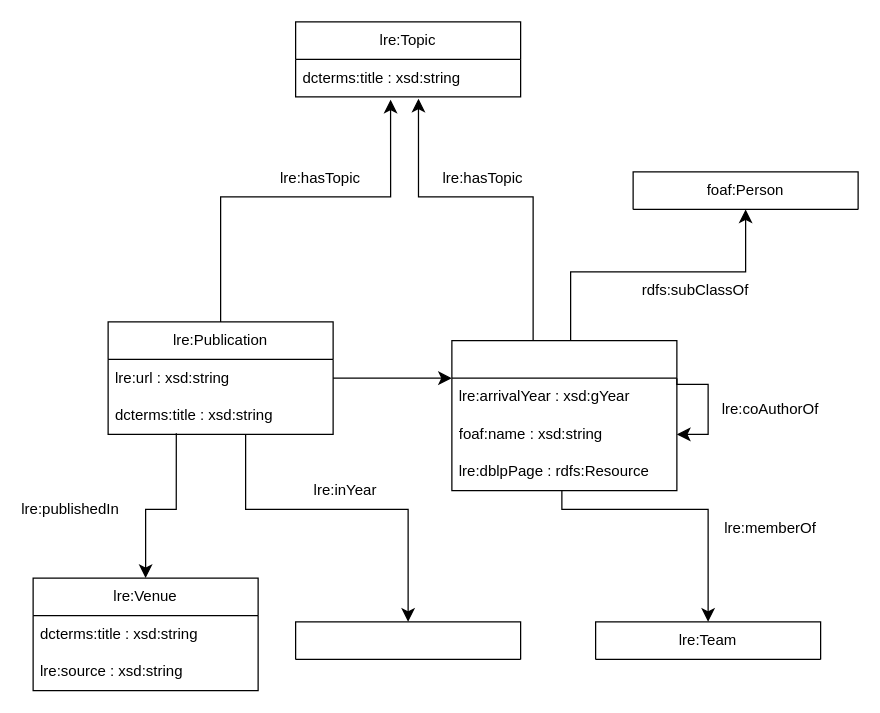
Some shapes in this 880 by 713 pixel diagram are drawn without their labels. Here are the shapes that lost their labels. From the top down, the box of each, then its label:
(451, 339, 677, 491): lre:Researcher
(294, 621, 521, 659): lre:Year
